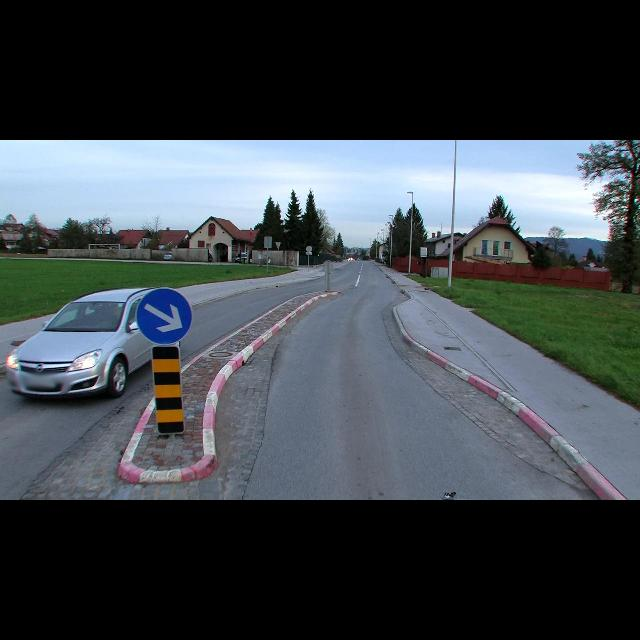Round: (138, 288, 192, 346)
